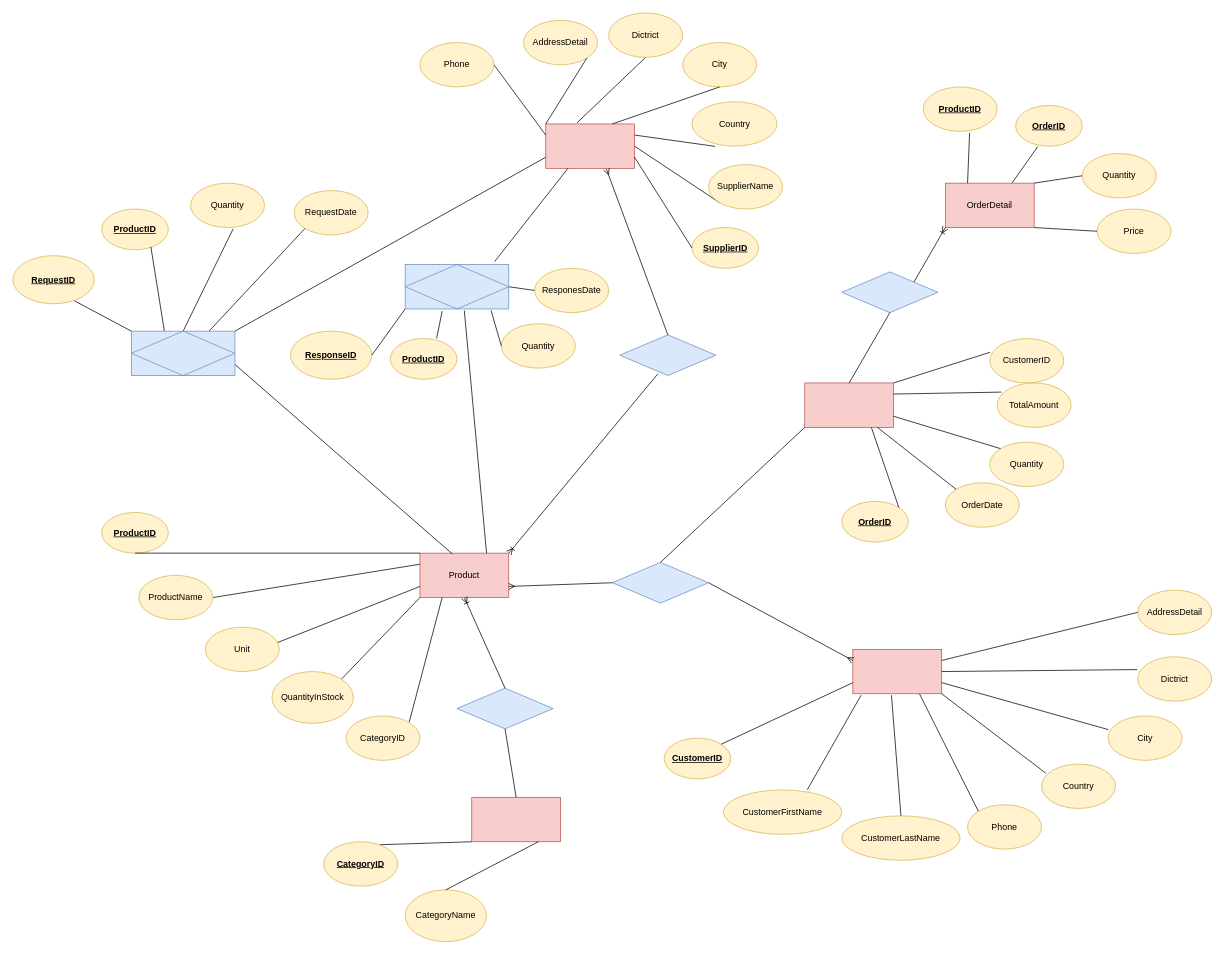
Some shapes in this 1225 by 955 pixel diagram are drawn without their labels. Here are the shapes that lost their labels. From the top down, the centre of each, then its label:
the point at 590,145: Supplier
the point at 456,286: Response Order
the point at 889,292: In
the point at 183,353: Request Order
the point at 667,355: Provide
the point at 849,404: Order
the point at 660,582: Buy
the point at 897,671: Customer
the point at 504,708: type
the point at 516,819: Category
